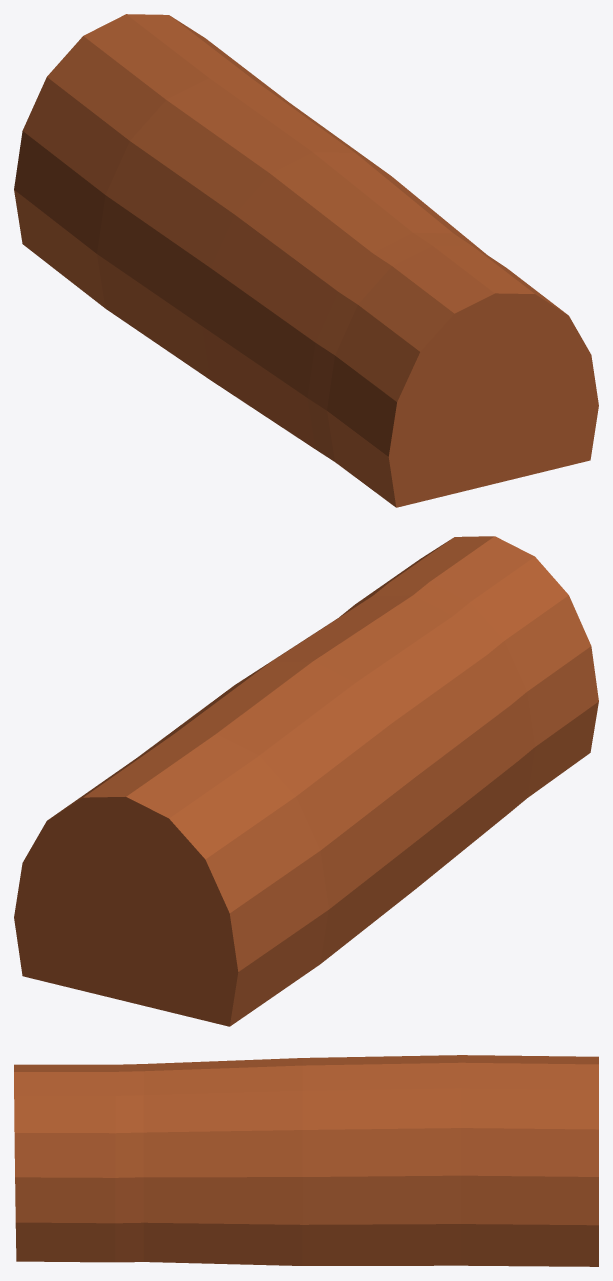
File: half-wood.fbx
The picture shows the model from 3 angles, top to bottom: view 1: azimuth 30°, elevation 25°; view 2: azimuth 150°, elevation 25°; view 3: azimuth 270°, elevation 25°; orthographic projection. The views are drawn at different scales.
Parts seen in each view (by area): view 1: 柱体.001; view 2: 柱体.001; view 3: 柱体.001.
Part boxes in pixels (x1,y1,x2,y2): 柱体.001: (14,14,598,507); 柱体.001: (14,536,598,1026); 柱体.001: (14,1055,598,1266).
Bounding box in the file's own units: 605 × 216 × 186.
